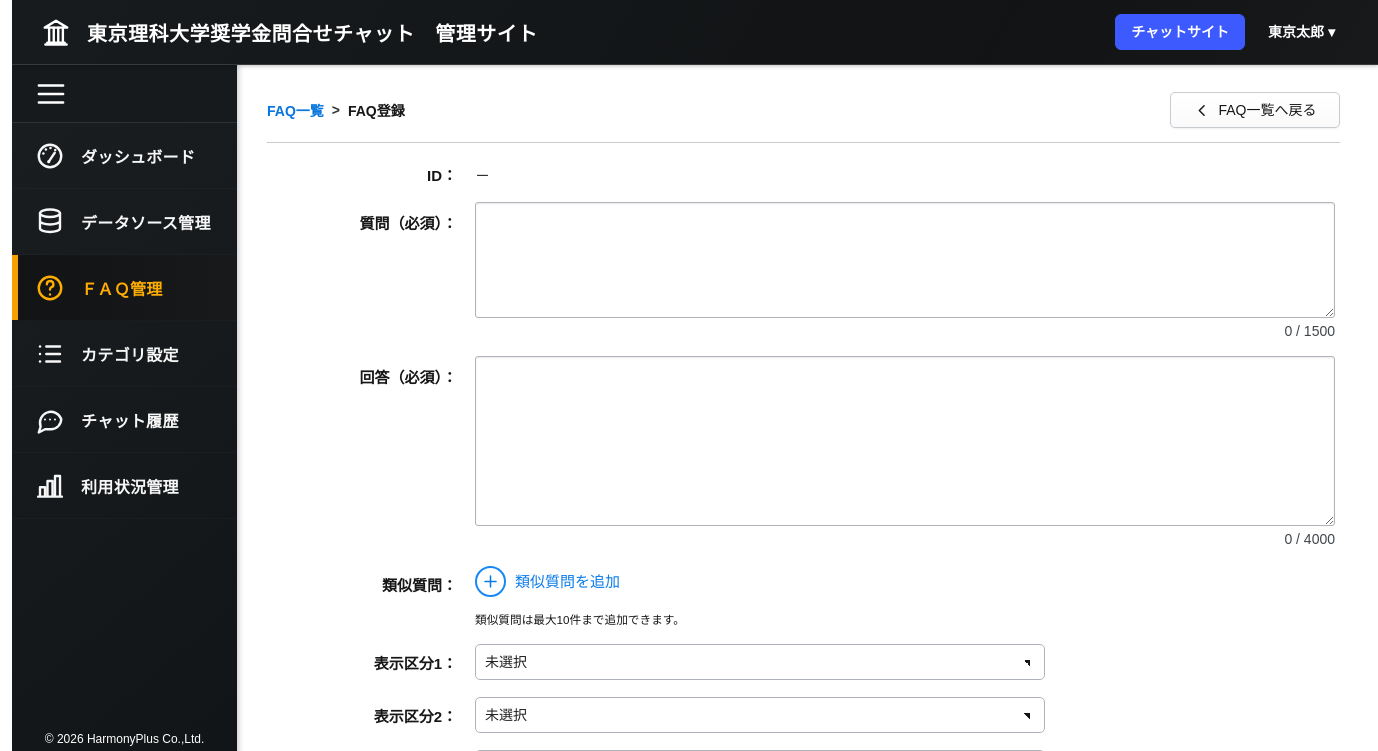
Test: CB-209 FAQ registration › API validationを該当項目へ表示し、登録失敗時は画面に残る
Expected: the dropdown named "表示区分1" is shown, [475, 644, 1045, 680]
In the text box named "質問": point(905, 260) [475, 202, 1335, 318], type "質問"
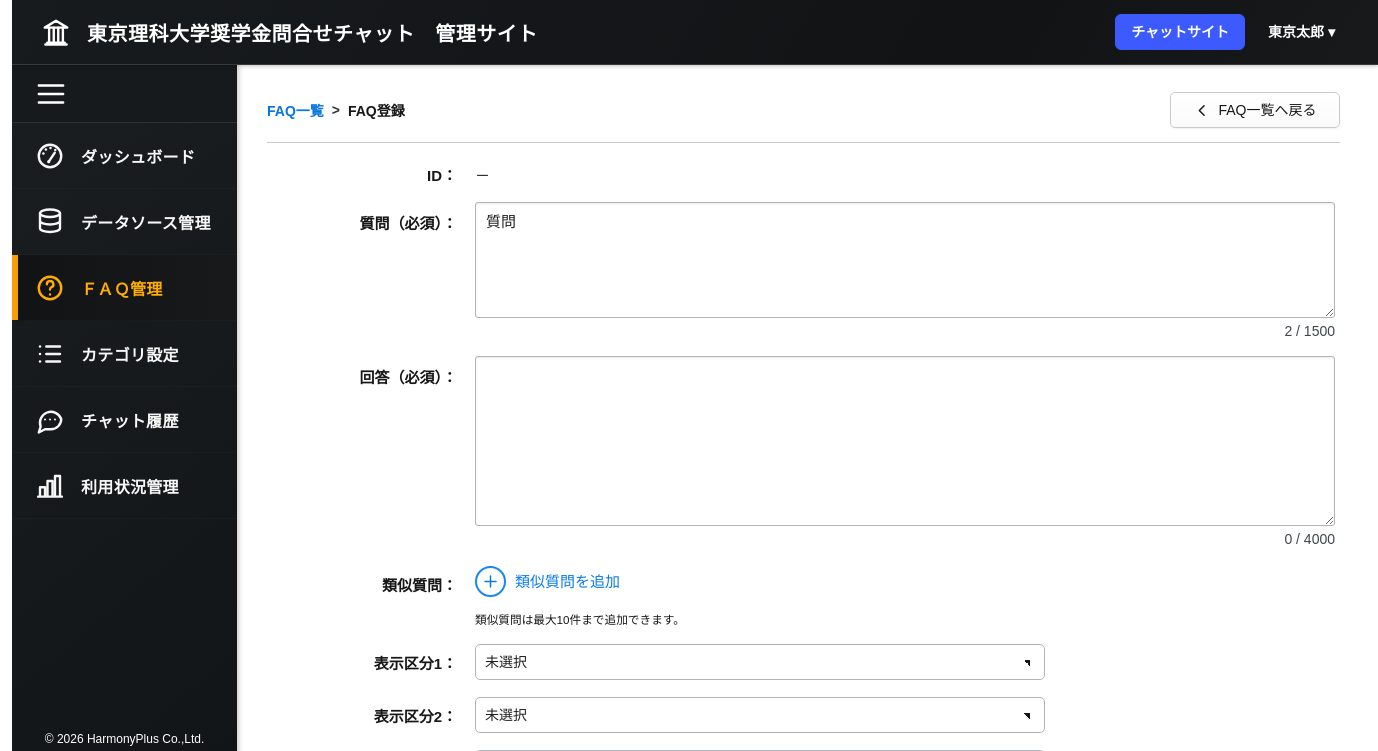
In the text box named "回答": point(905, 441) [475, 356, 1335, 526], type "回答"
(page scrolled)
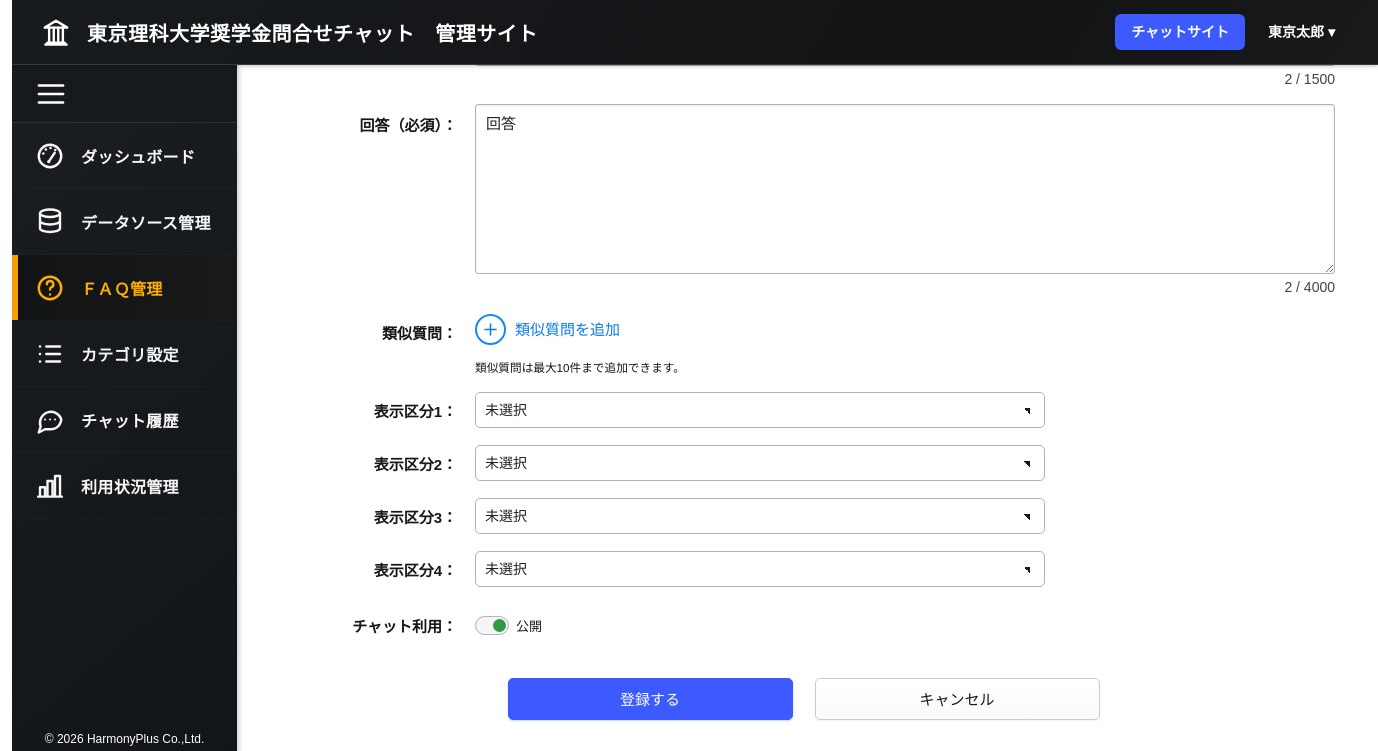
Click the button "登録する": point(650, 699) [508, 678, 792, 720]
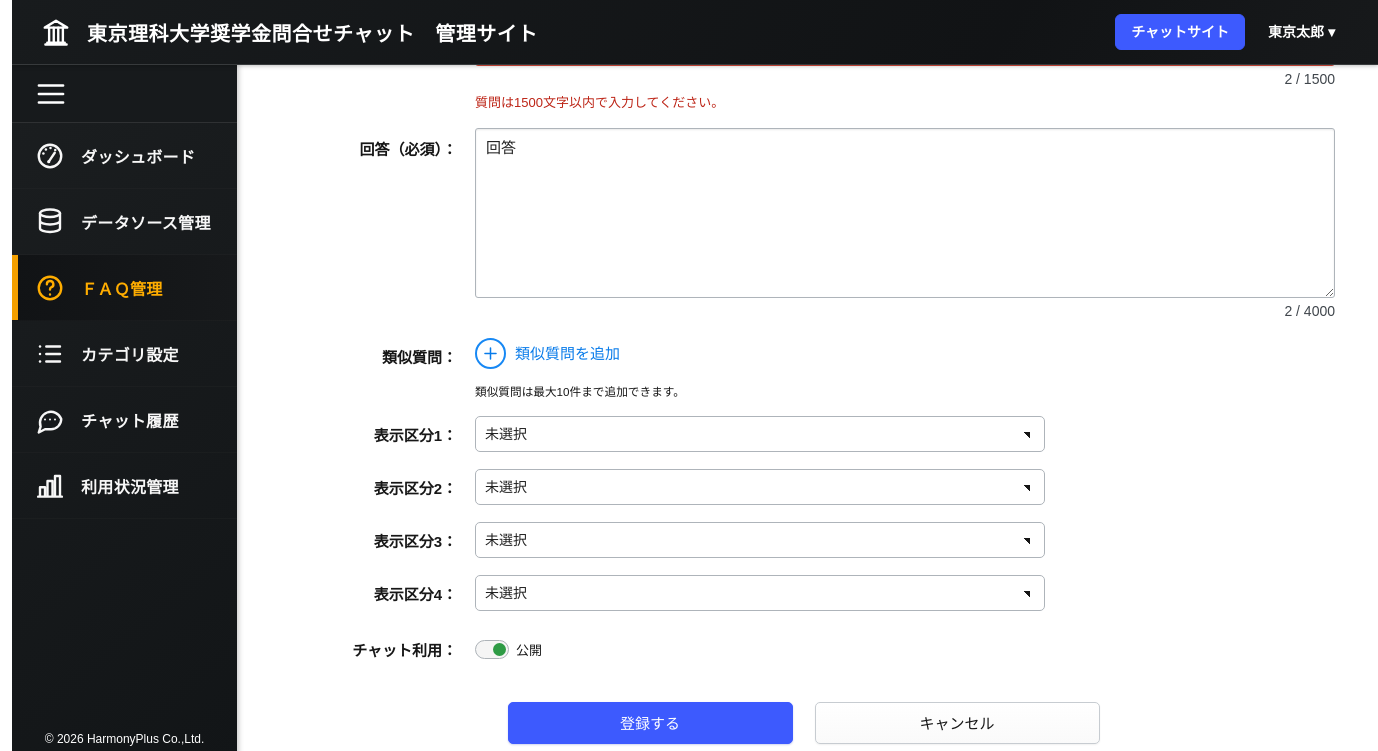
Result: the text "質問は1500文字以内で入力してください。" is shown at [475, 95, 724, 110]
